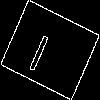I: (25, 25, 56, 73)
